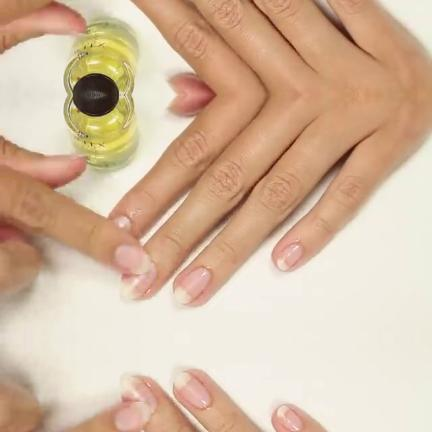Nail: (173, 266, 212, 303), (173, 371, 212, 408), (113, 244, 151, 273), (113, 401, 151, 430), (277, 242, 305, 270), (277, 404, 305, 432)
